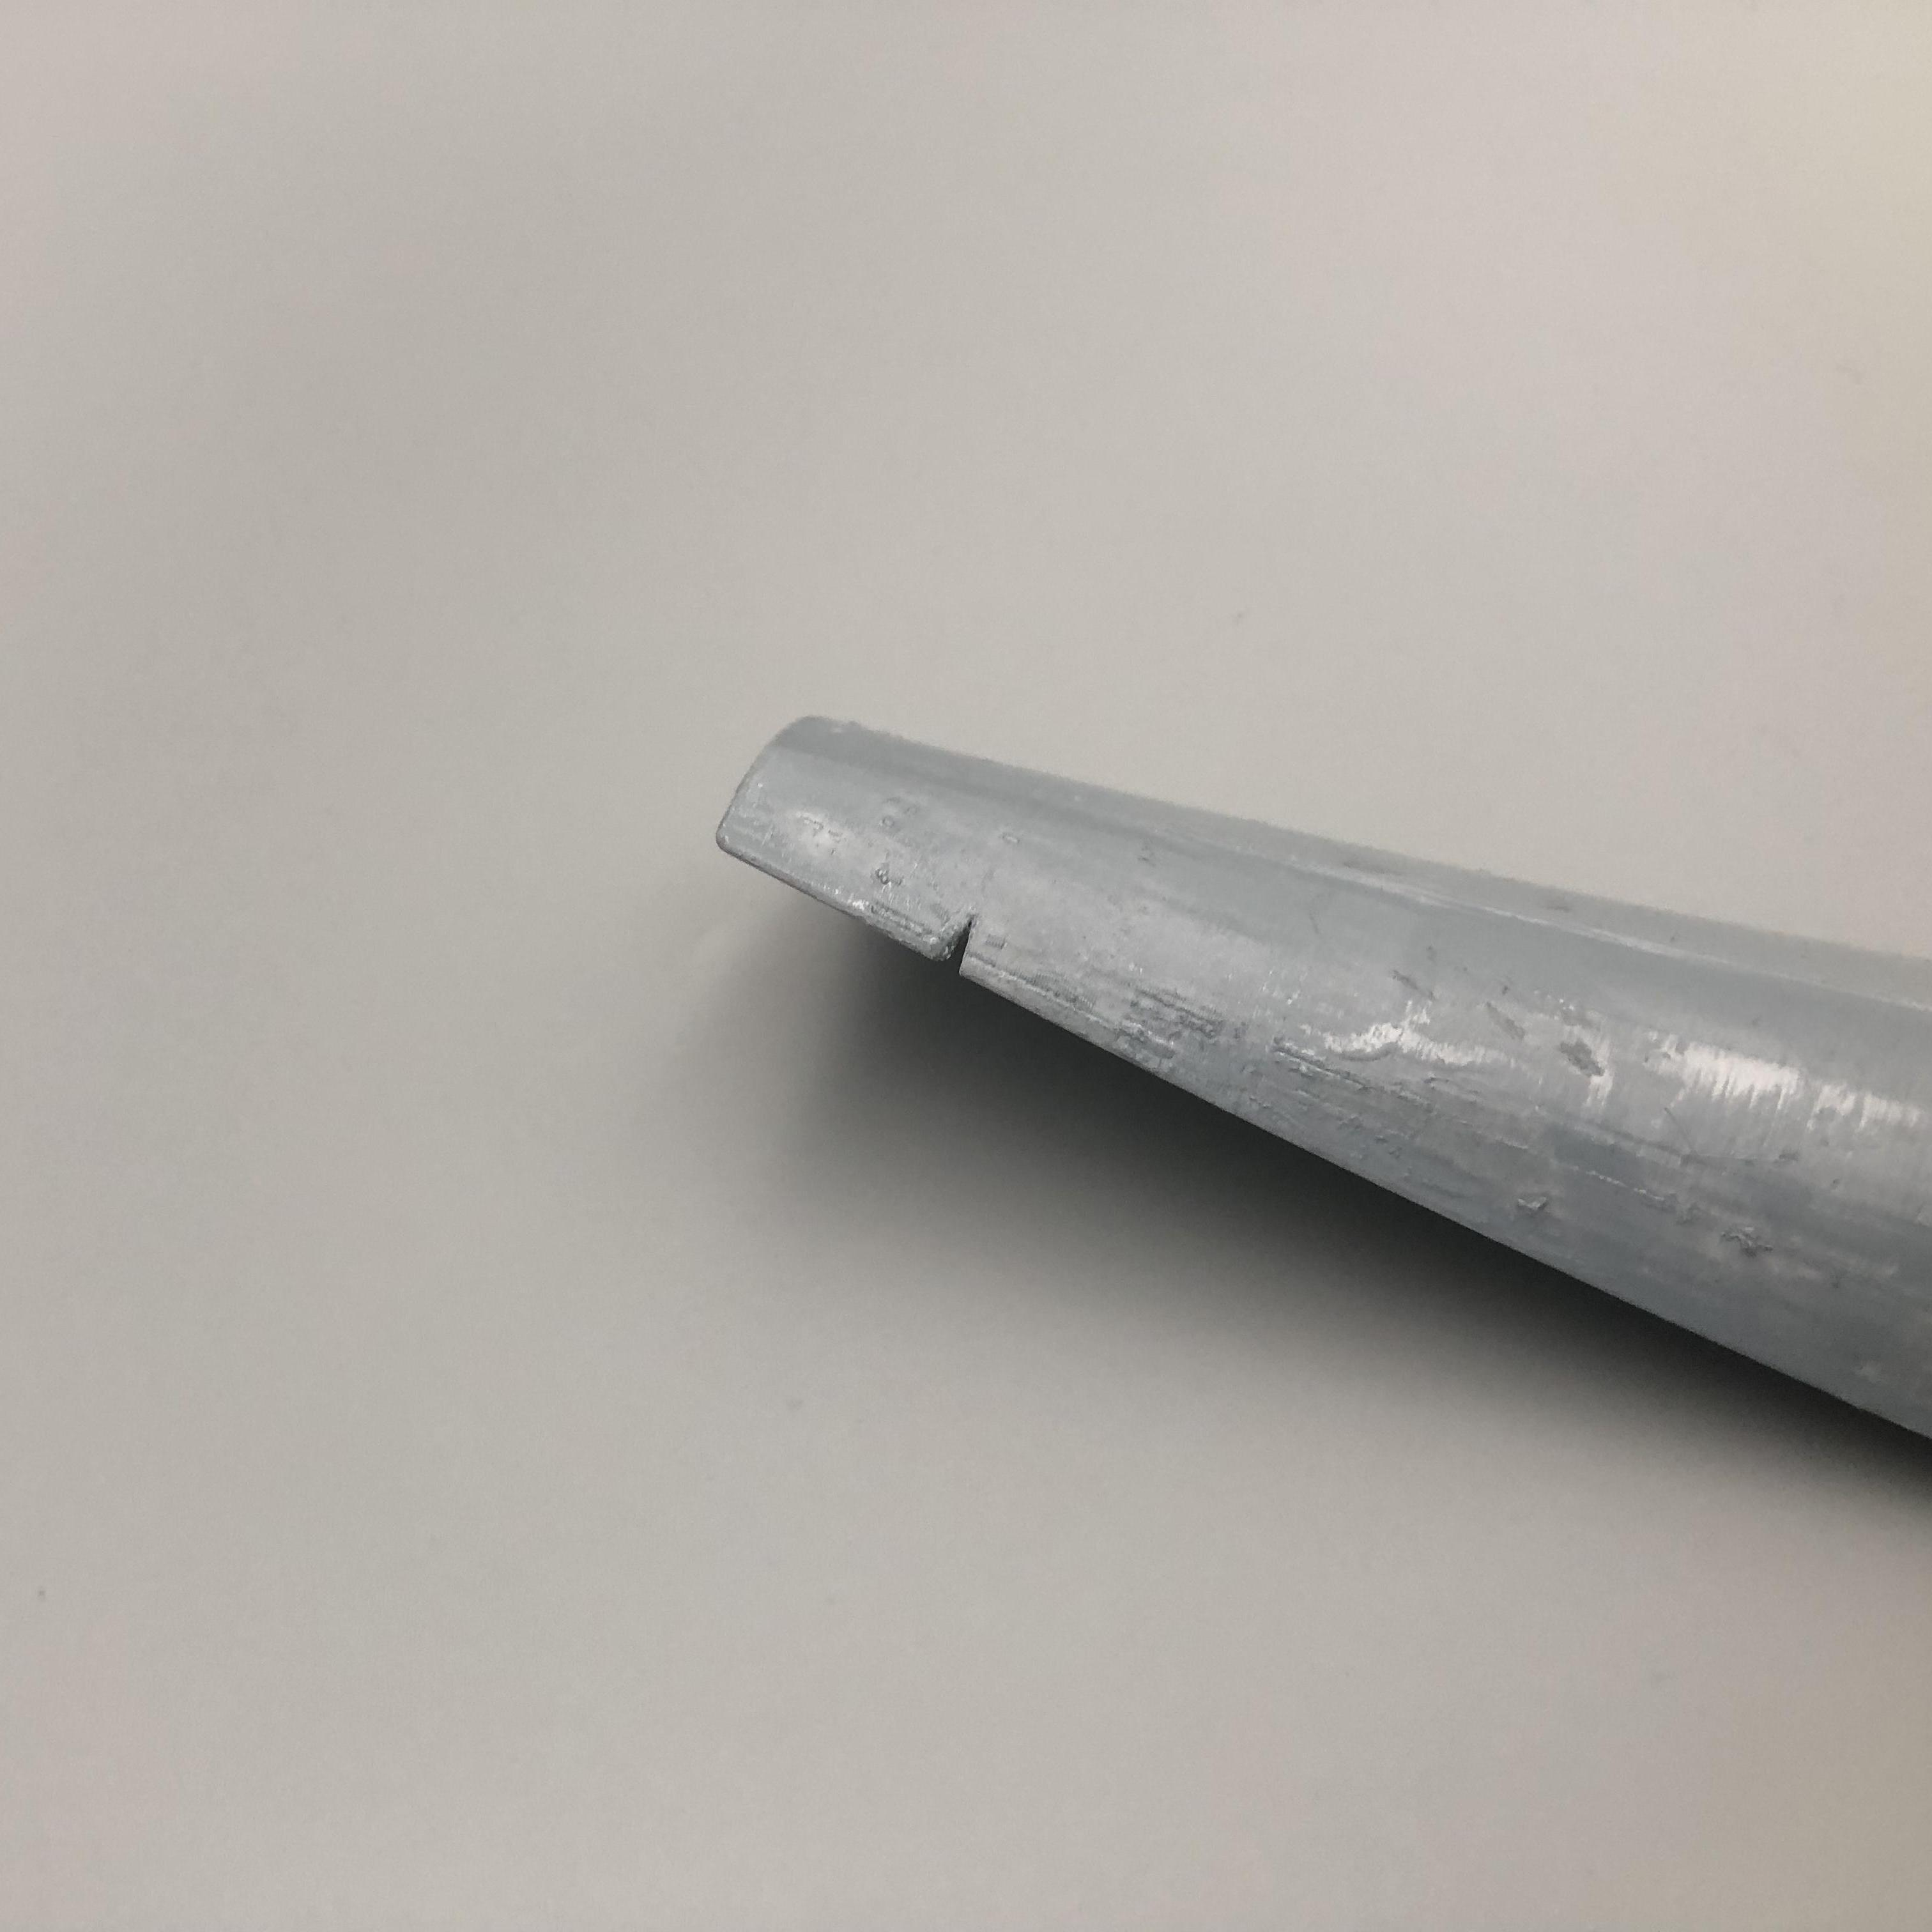groove: (927, 902, 994, 982)
